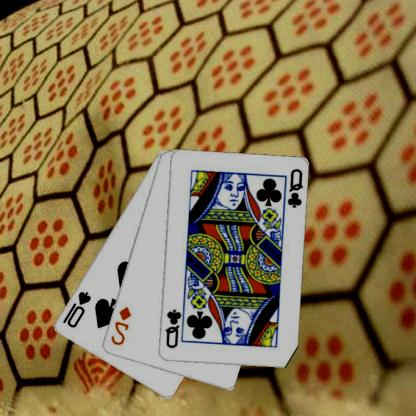10S: (62, 288, 94, 330)
2D: (110, 304, 134, 347)
QC: (164, 307, 184, 349), (286, 167, 306, 209)
